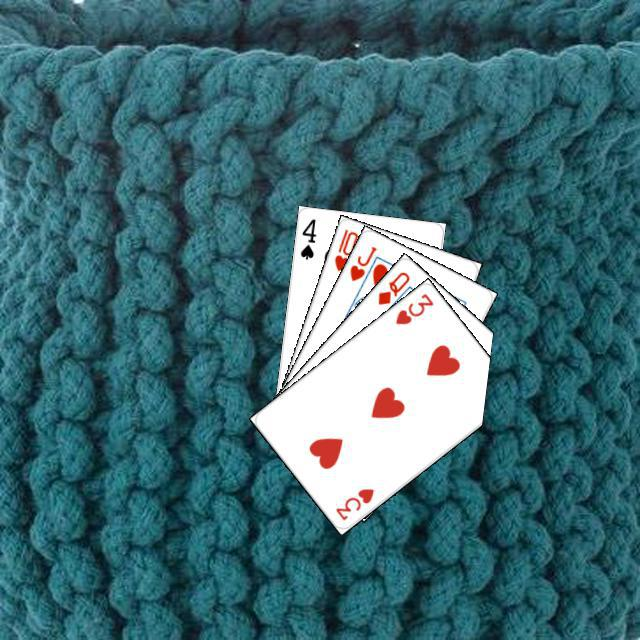10h: (329, 224, 360, 273)
3h: (330, 483, 376, 522), (390, 288, 435, 327)
4s: (295, 214, 318, 261)
Jh: (345, 241, 378, 283)
Qd: (373, 267, 411, 307)
